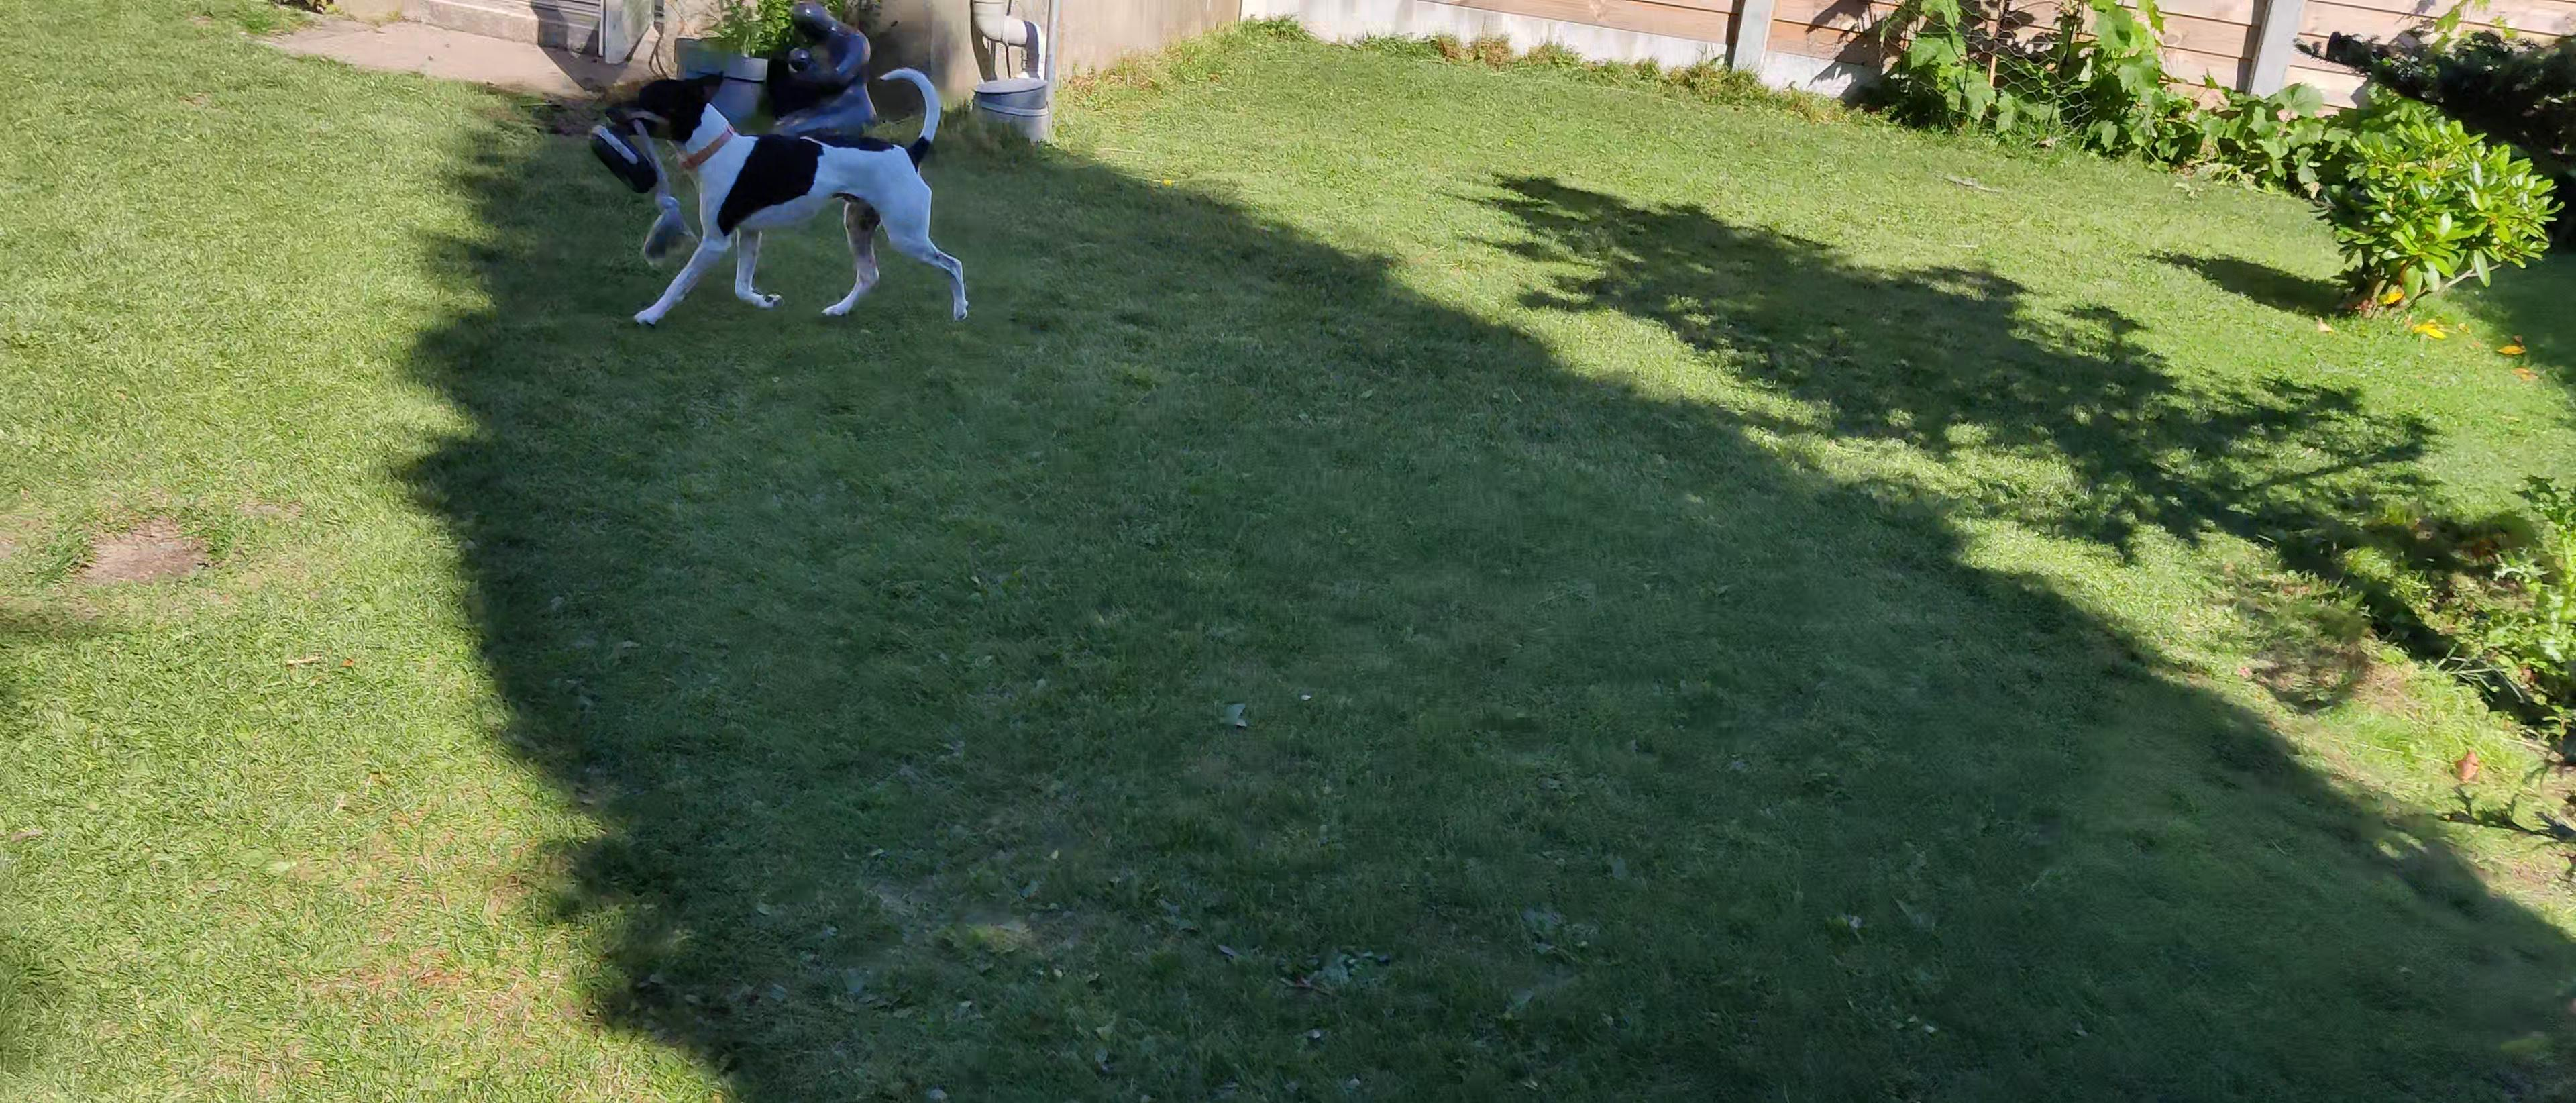Dog: (595, 56, 986, 342)
